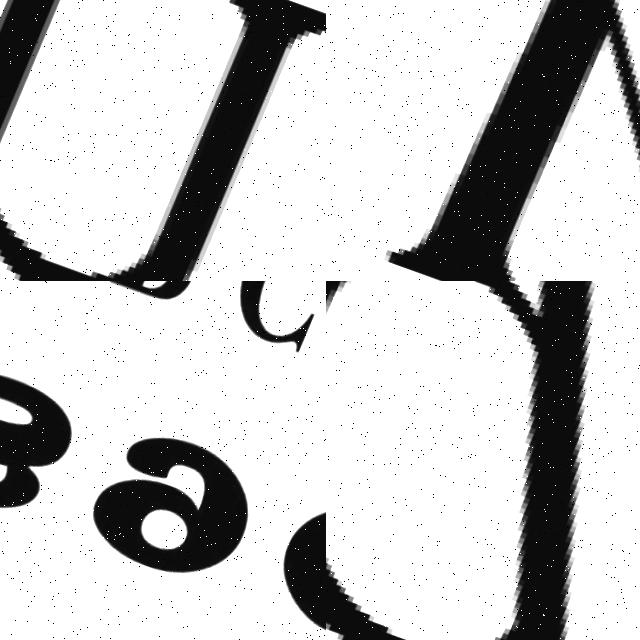0: (254, 481, 326, 640)
8: (0, 343, 104, 537)
9: (78, 412, 283, 599)
H: (0, 0, 326, 281)
Q: (326, 281, 640, 640)
Y: (326, 0, 640, 281)
